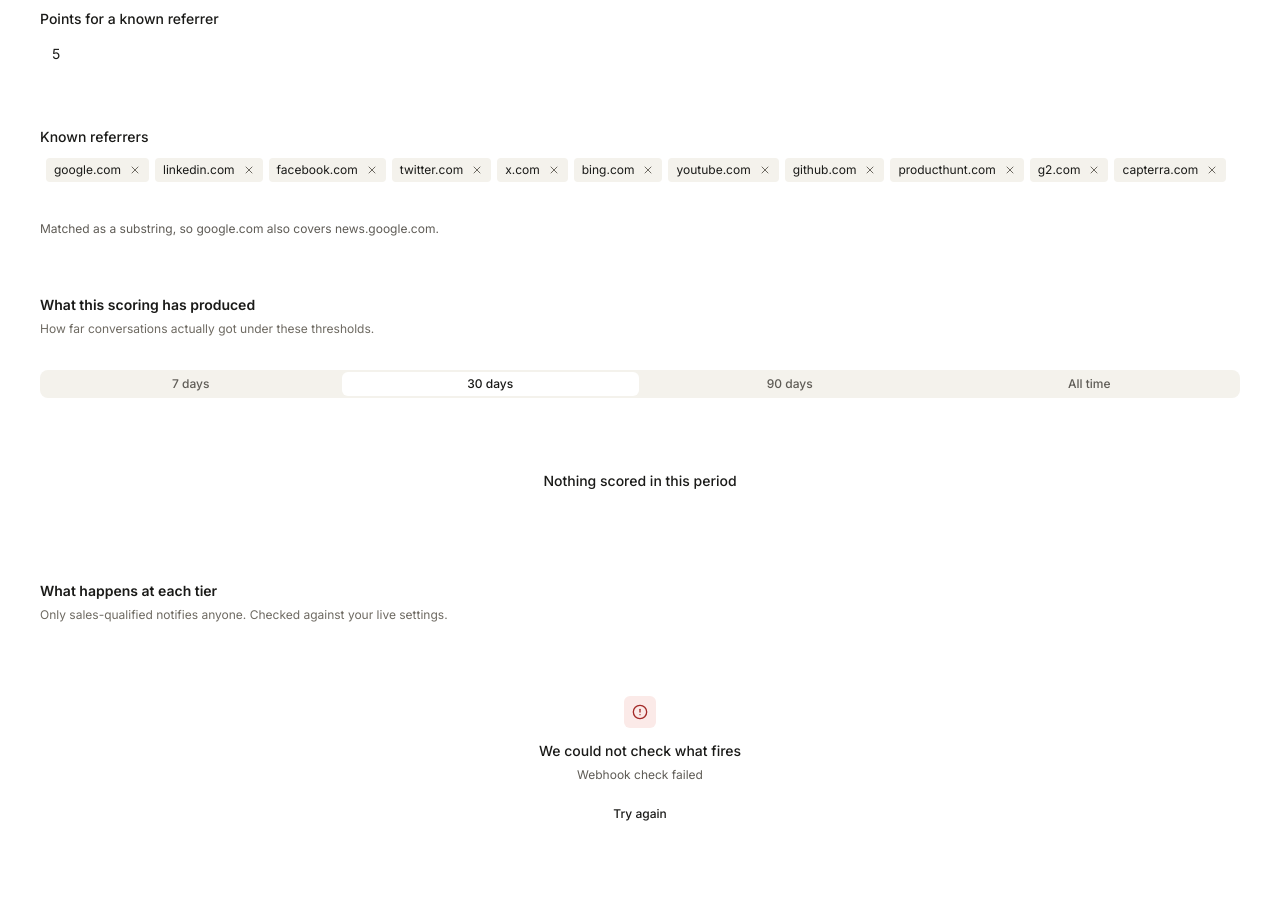
Test: what fires at each tier › offers its own retry without touching the page draft
(page scrolled)
Expected: the text "Webhook check failed" is shown, [577,767,703,782]
What coordinates should you click on to do the following:
click the button "Try again"
I would click on:
 (640, 814)
Its box is [603,800,677,828].
(page scrolled)
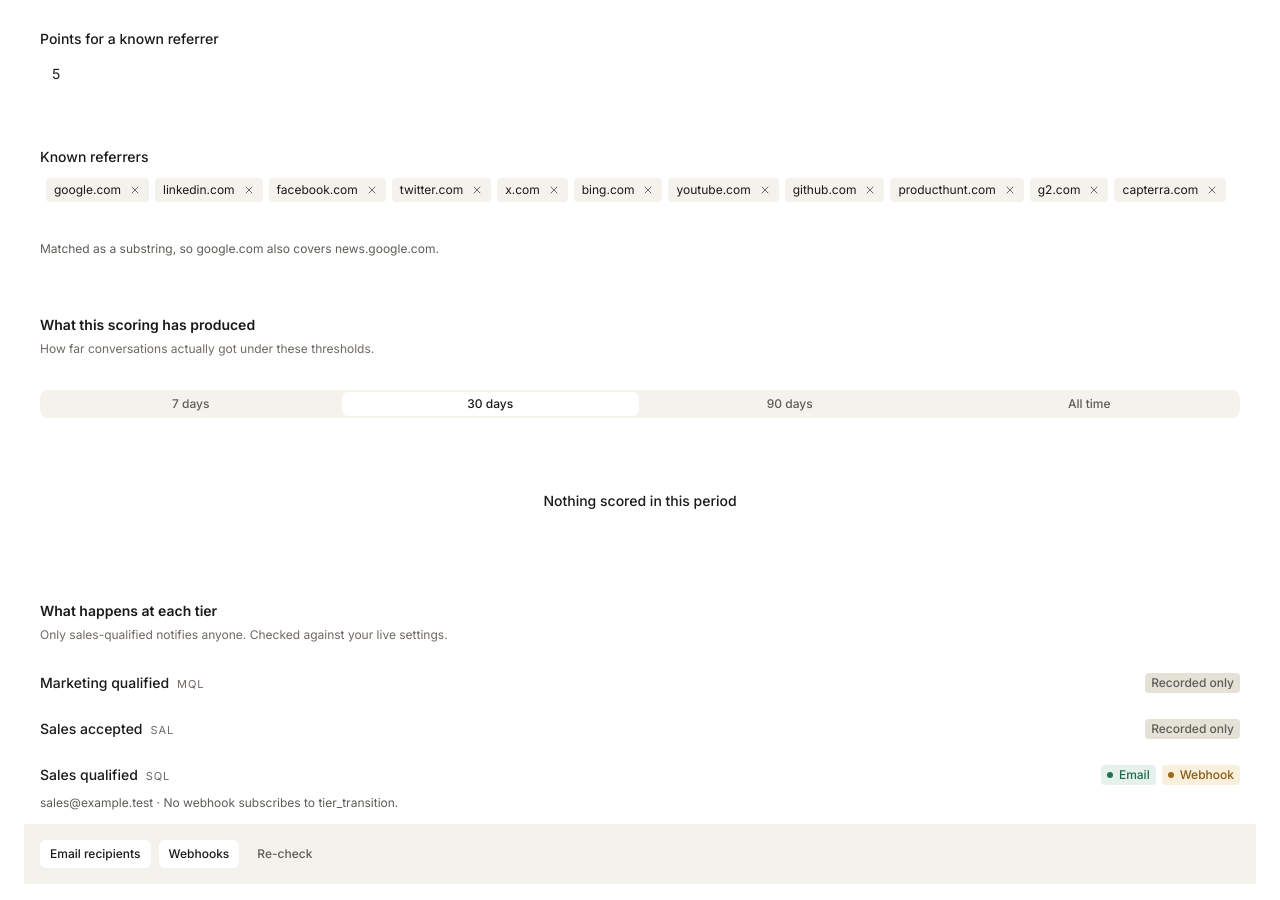
Result: the text "sales@example.test" is shown at [40,795,153,810]
